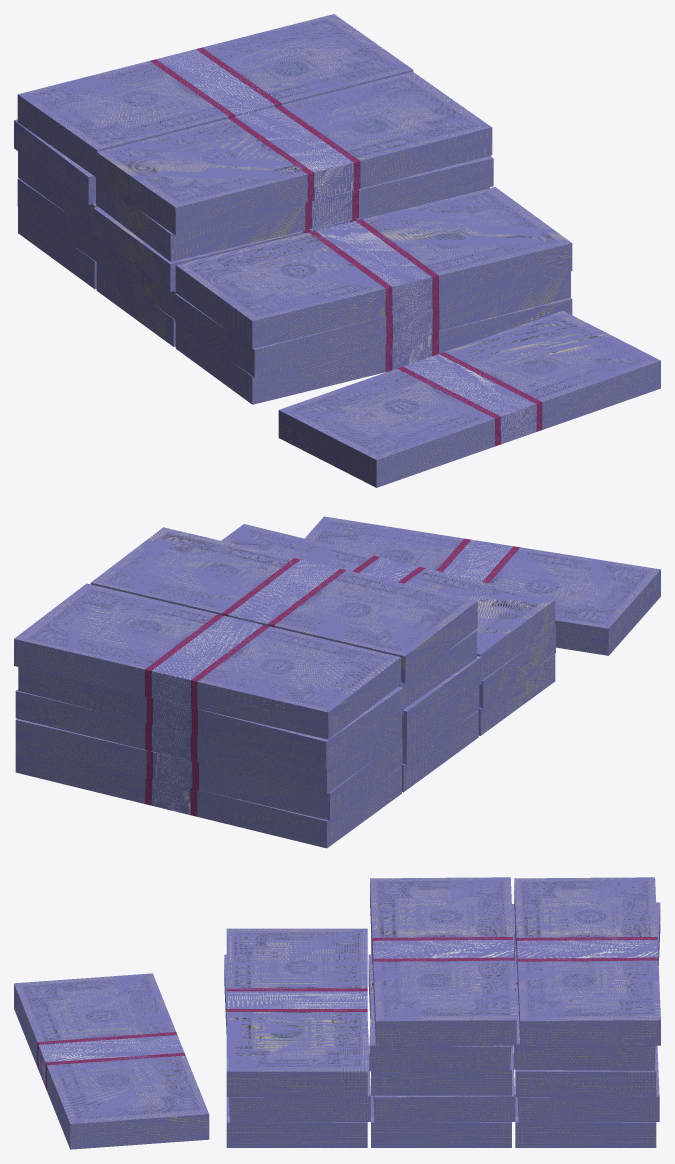
The model's file is Dollars2.fbx.
The picture shows the model from 3 angles, top to bottom: view 1: azimuth 30°, elevation 25°; view 2: azimuth 150°, elevation 25°; view 3: azimuth 270°, elevation 25°; orthographic projection. The views are drawn at different scales.
Visible parts, largest first — view 1: _20_bill_stack3, _20_bill_stack5, _20_bill_stack14, _20_bill_stack13, _20_bill_stack4, _20_bill_stack2, _20_bill_stack1, _20_bill_stack8, _20_bill_stack12, _20_bill_stack10, _20_bill_stack6, _20_bill_stack9 (+2 smaller); view 2: _20_bill_stack13, _20_bill_stack5, _20_bill_stack14, _20_bill_stack10, _20_bill_stack12, _20_bill_stack9, _20_bill_stack3, _20_bill_stack11, _20_bill_stack8, _20_bill_stack2, _20_bill_stack1, _20_bill_stack6 (+2 smaller); view 3: _20_bill_stack14, _20_bill_stack5, _20_bill_stack13, _20_bill_stack3, _20_bill_stack7, _20_bill_stack4, _20_bill_stack2, _20_bill_stack11, _20_bill_stack12, _20_bill_stack10, _20_bill_stack1, _20_bill_stack9 (+2 smaller).
Part boxes in pixels (box(x1,y1,x2,y2)): _20_bill_stack3: box(175, 187, 572, 348); _20_bill_stack5: box(96, 72, 492, 235); _20_bill_stack14: box(278, 310, 660, 487); _20_bill_stack13: box(17, 14, 413, 177); _20_bill_stack4: box(96, 156, 493, 261); _20_bill_stack2: box(175, 271, 570, 377); _20_bill_stack1: box(175, 297, 572, 404); _20_bill_stack8: box(93, 187, 489, 291); _20_bill_stack12: box(14, 119, 95, 204); _20_bill_stack10: box(17, 178, 96, 261); _20_bill_stack6: box(96, 265, 175, 346); _20_bill_stack9: box(18, 207, 96, 289); _20_bill_stack13: box(14, 583, 400, 739); _20_bill_stack5: box(90, 527, 477, 683); _20_bill_stack14: box(305, 516, 660, 655); _20_bill_stack10: box(15, 718, 402, 820); _20_bill_stack12: box(18, 667, 403, 768); _20_bill_stack9: box(15, 747, 401, 848); _20_bill_stack3: box(221, 524, 555, 680); _20_bill_stack11: box(15, 689, 401, 793); _20_bill_stack8: box(402, 655, 481, 738); _20_bill_stack2: box(479, 625, 555, 708); _20_bill_stack1: box(478, 654, 555, 735); _20_bill_stack6: box(401, 710, 478, 792); _20_bill_stack14: box(14, 973, 209, 1149); _20_bill_stack5: box(370, 877, 516, 1046); _20_bill_stack13: box(514, 877, 660, 1046); _20_bill_stack3: box(226, 928, 367, 1096); _20_bill_stack7: box(368, 954, 515, 1122); _20_bill_stack4: box(369, 904, 515, 1072); _20_bill_stack2: box(224, 954, 370, 1122); _20_bill_stack11: box(515, 940, 656, 1096); _20_bill_stack12: box(513, 902, 660, 1070); _20_bill_stack10: box(514, 955, 659, 1122); _20_bill_stack1: box(226, 1097, 367, 1147); _20_bill_stack9: box(515, 1097, 656, 1147).
Size of the model in its own units: 0.1609 by 0.0635 by 0.2918.
